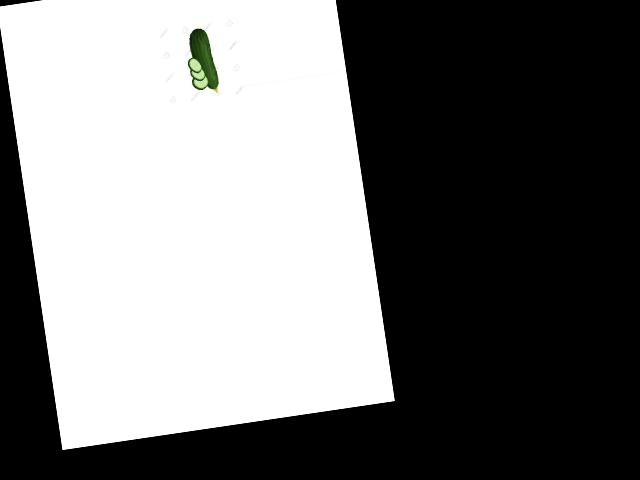cucumber: (187, 26, 219, 95)
